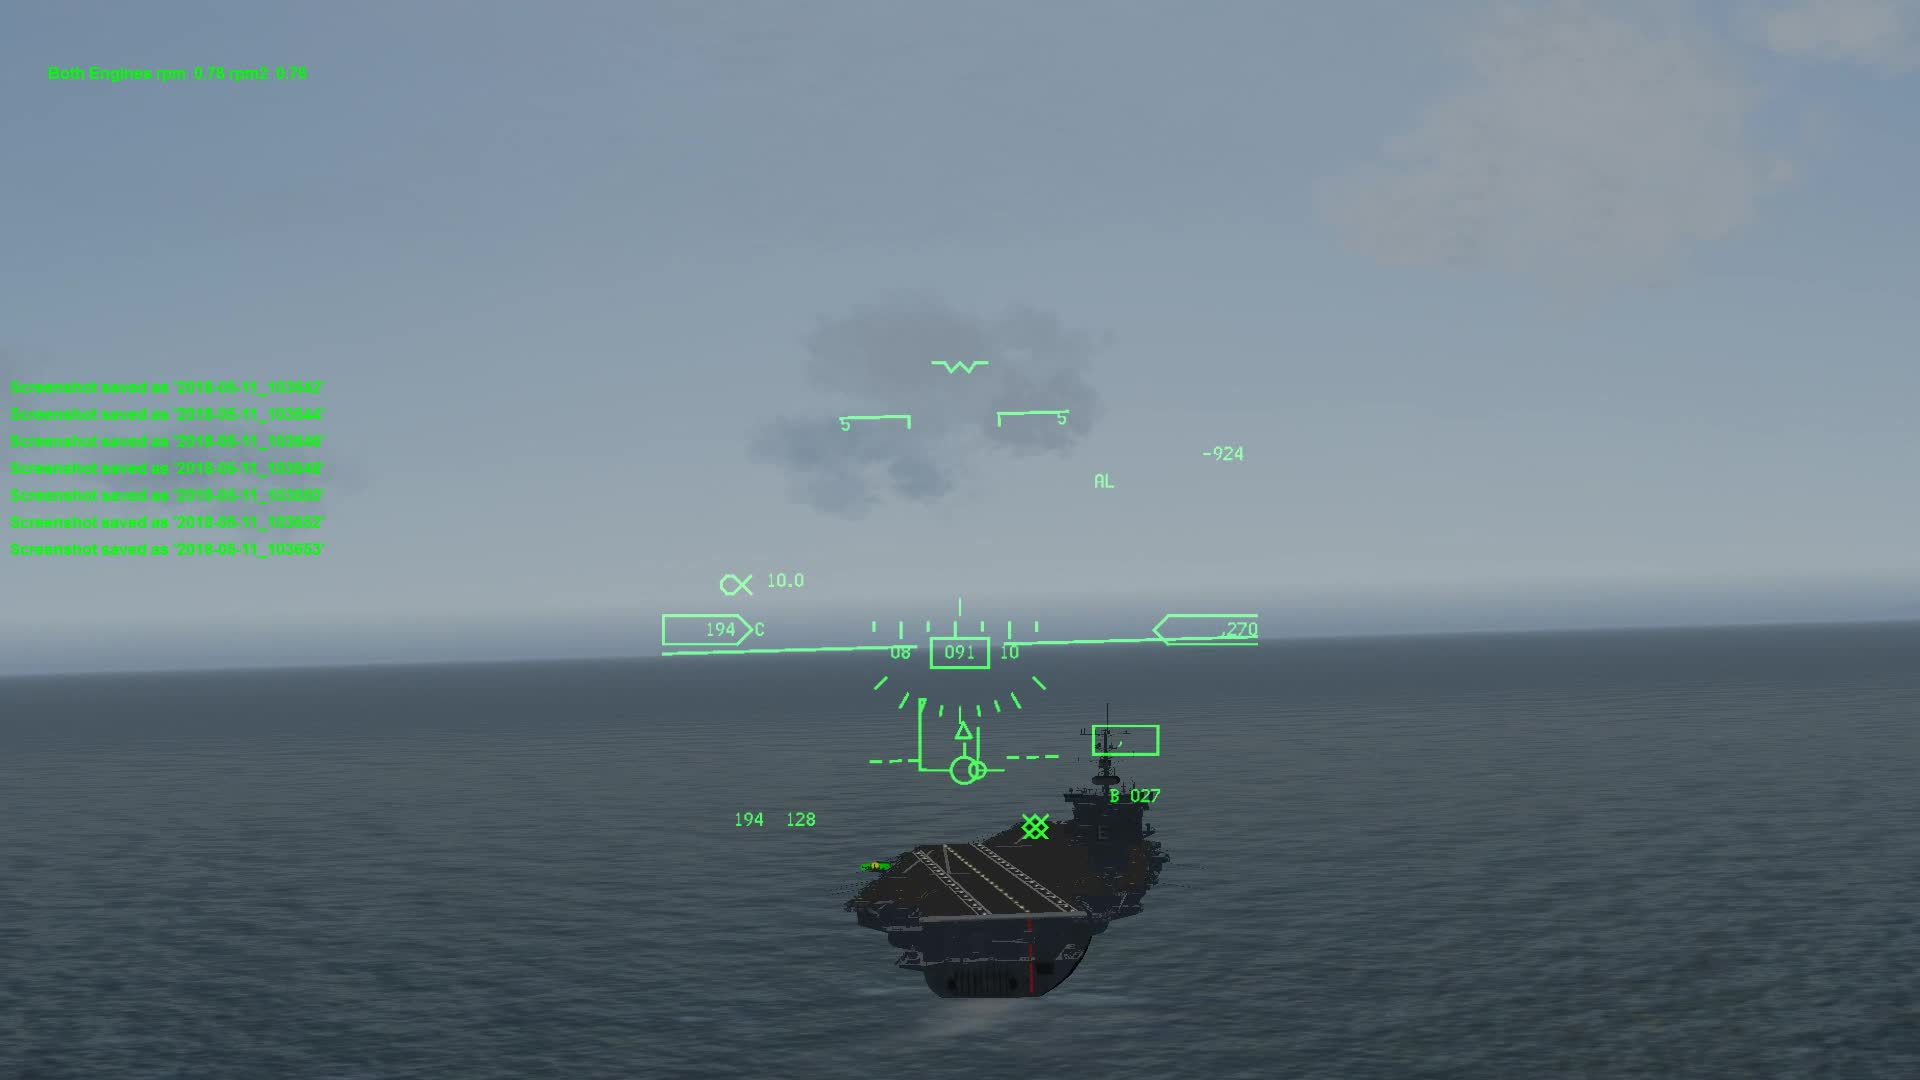speed vector: (934, 746, 1005, 794)
